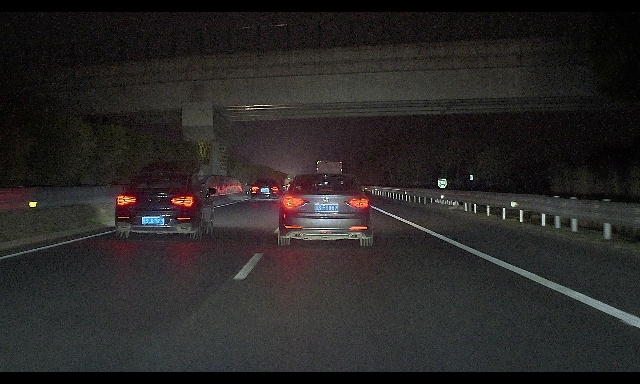car: (276, 173, 373, 247), (115, 171, 217, 240), (249, 178, 280, 203)
truck: (309, 160, 343, 207)
